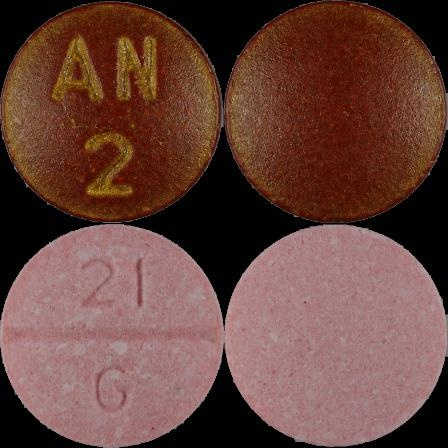12634-189: (0, 0, 224, 224)
